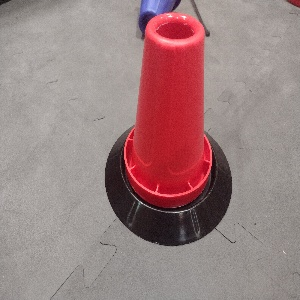Red_1: (122, 12, 213, 208)
